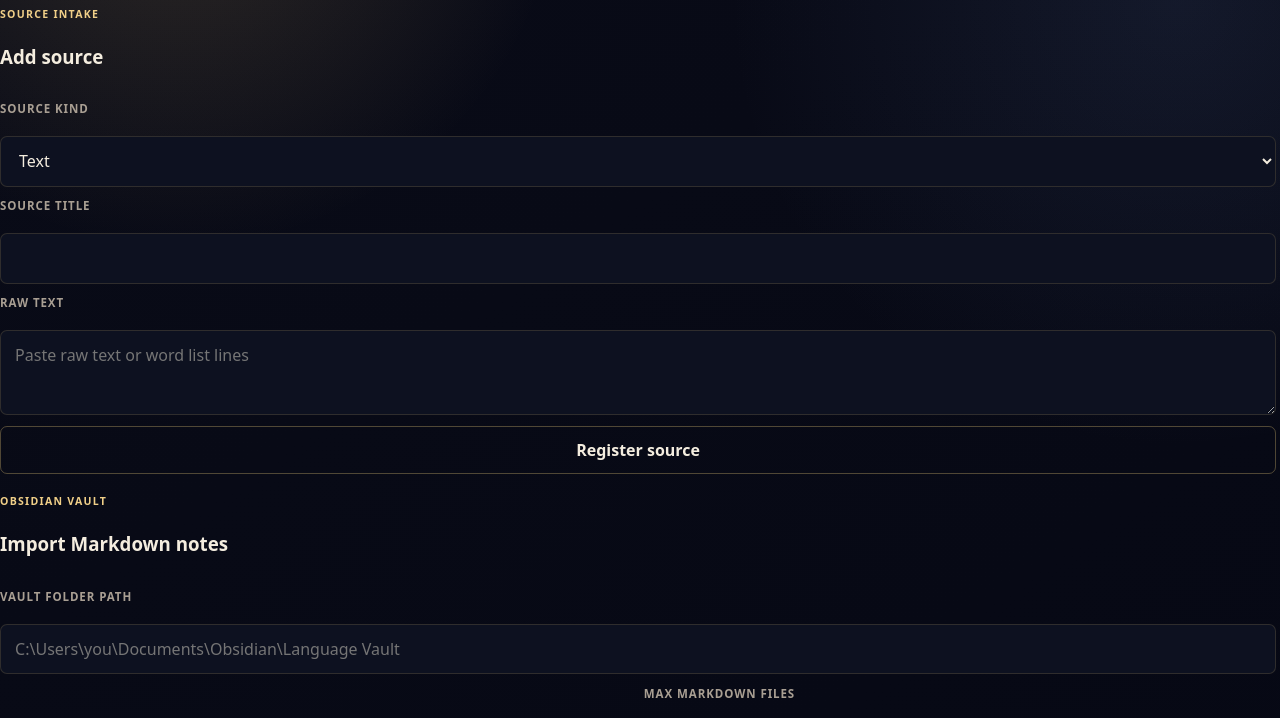
IngestView already-processing conflicts › localizes source registration failures
Type "Field notes" into the field labelled "Source title".
click(638, 258); type("Field notes")  # box [0, 233, 1276, 284]
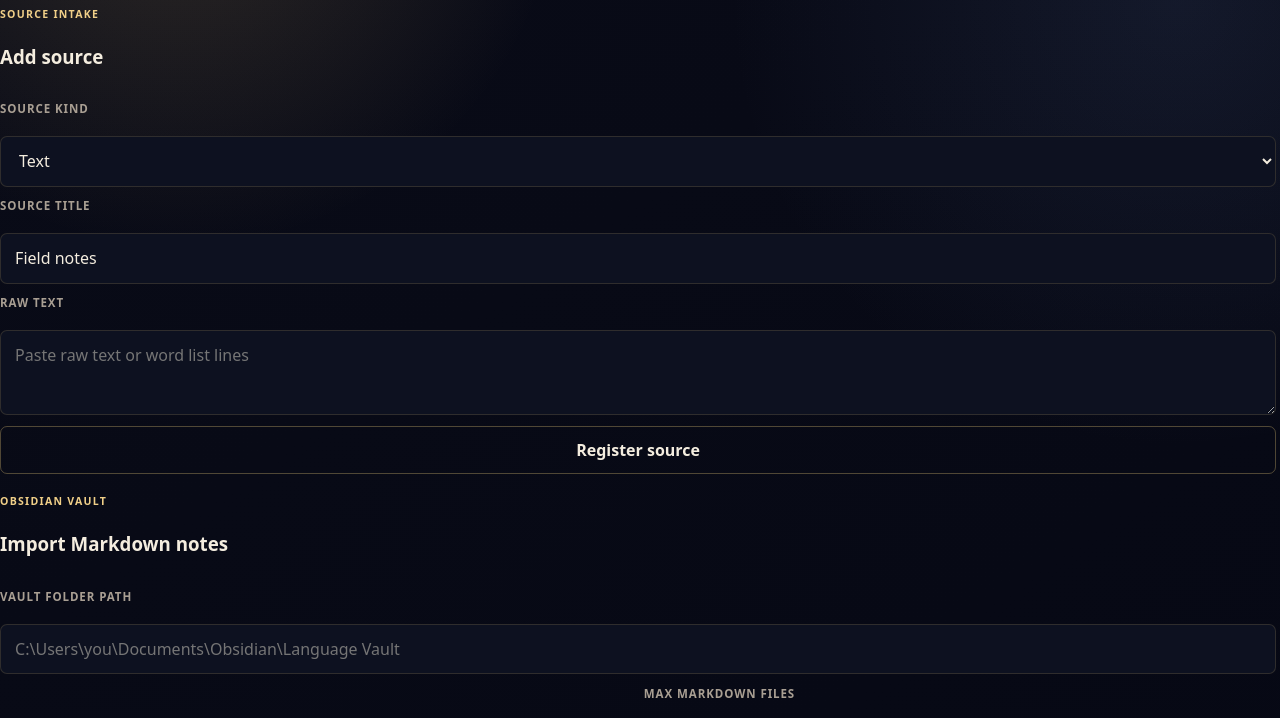
Type "mira = river" into the text box labelled "Raw text".
click(638, 373); type("mira = river")  # box [0, 330, 1276, 415]
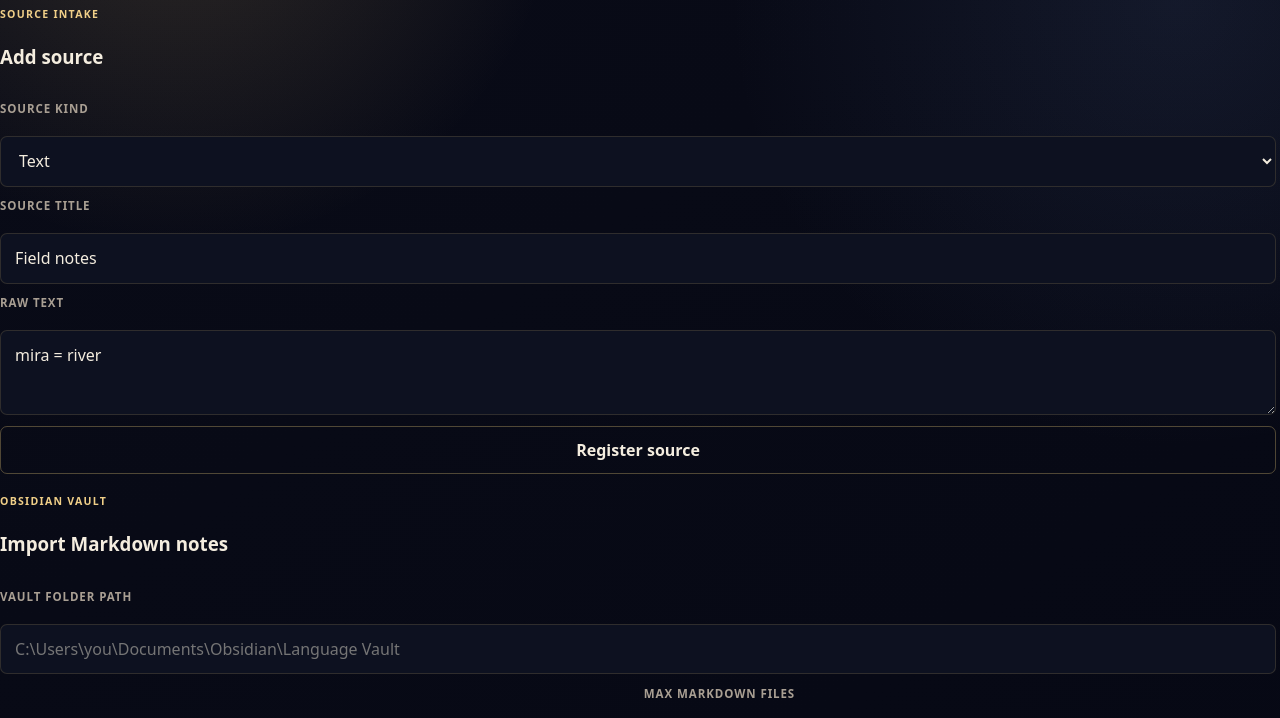
Click the button "Register source".
click(638, 450)  # box [0, 426, 1276, 474]
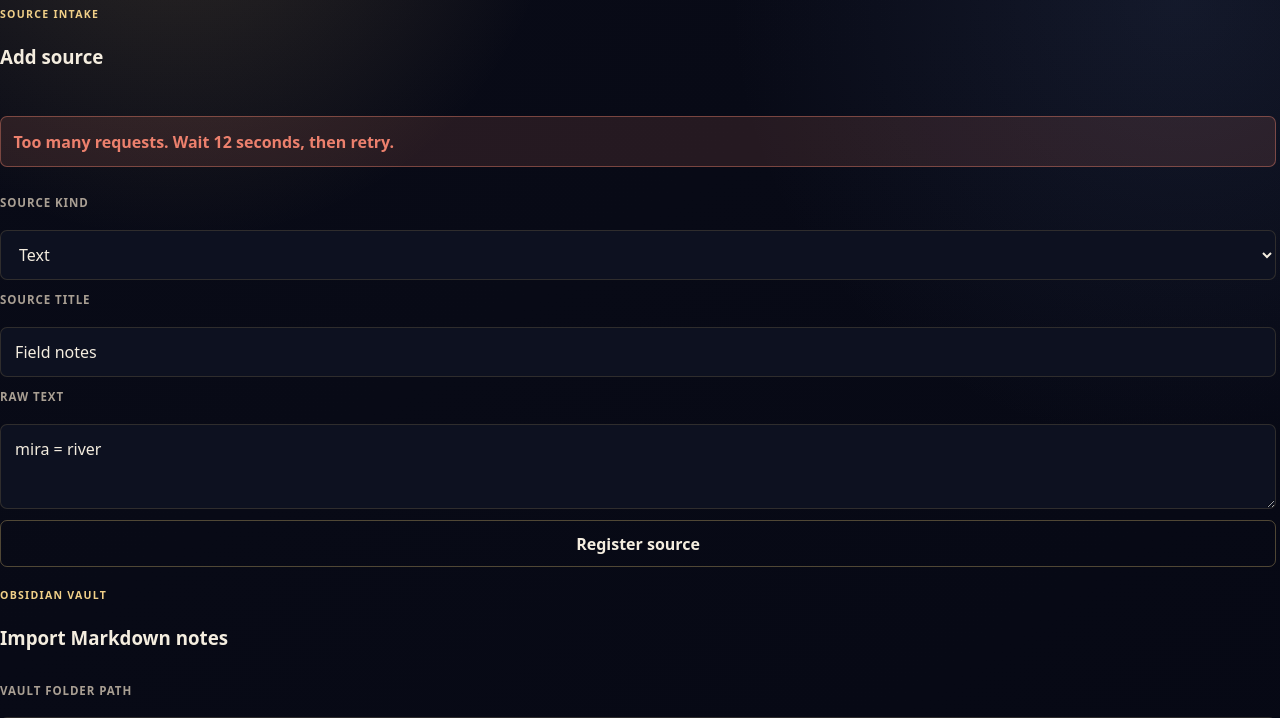
Check: the message reads "Too many requests. Wait 12 seconds, then retry.", box [14, 131, 394, 153]
